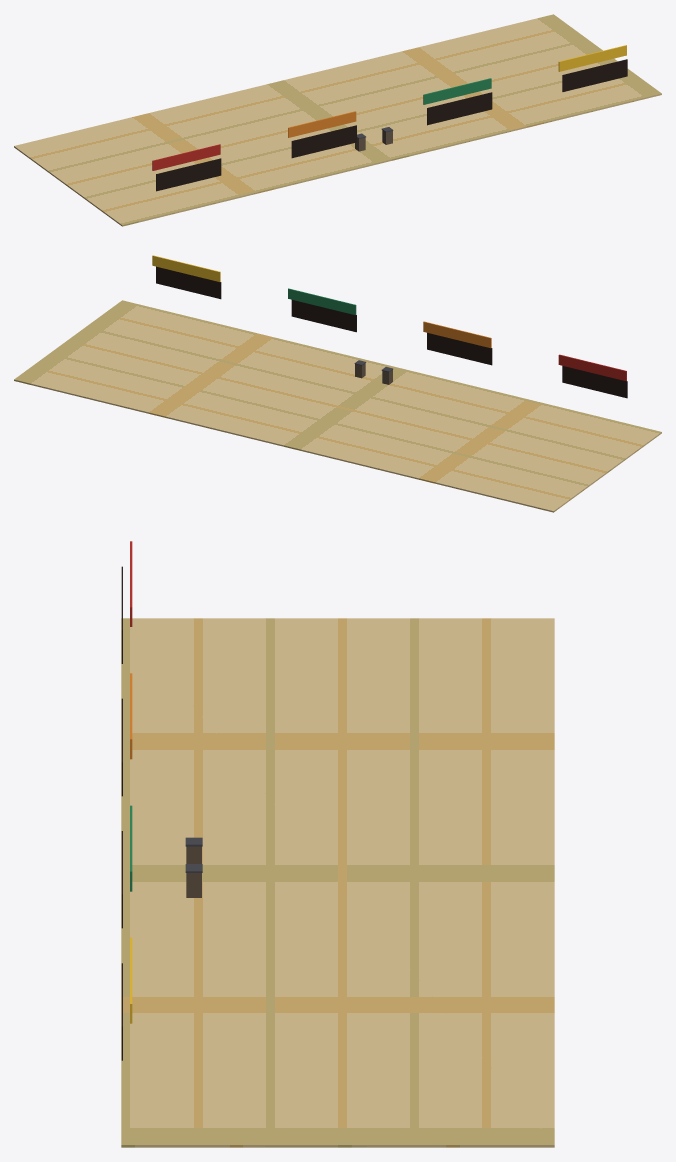
The model's file is structure.glb.
The picture shows the model from 3 angles, top to bottom: view 1: azimuth 30°, elevation 25°; view 2: azimuth 150°, elevation 25°; view 3: azimuth 270°, elevation 25°; orthographic projection. The views are drawn at different scales.
Visible parts, largest first — view 1: Box1, Box2, Box6, Box4, Box8, Box7, Box9, Box3, Box5; view 2: Box1, Box2, Box4, Box6, Box8, Box5, Box3, Box7, Box9; view 3: Box1.
Boxes of the visible parts, x1,y1,x2,y2 form: Box1: (14, 14, 661, 226); Box2: (156, 158, 221, 191); Box6: (427, 92, 492, 125); Box4: (291, 125, 356, 158); Box8: (562, 59, 627, 91); Box7: (423, 78, 491, 104); Box9: (558, 45, 626, 71); Box3: (152, 144, 220, 170); Box5: (288, 111, 356, 137); Box1: (14, 300, 661, 512); Box2: (562, 366, 627, 398); Box4: (427, 333, 492, 365); Box6: (291, 300, 356, 332); Box8: (156, 266, 221, 299); Box5: (423, 321, 491, 348); Box3: (558, 354, 626, 381); Box7: (288, 288, 356, 315); Box9: (152, 255, 220, 281); Box1: (121, 618, 554, 1147).
Size of the model in its own units: 39.85 by 3.95 by 13.85.
8 materials, 1 textured.
